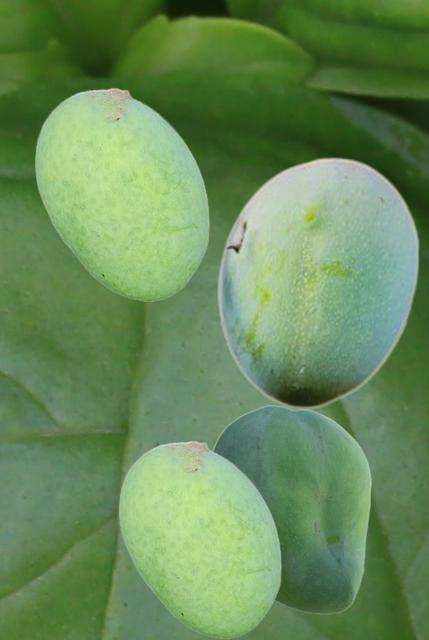green_mango: (216, 156, 419, 408), (35, 87, 208, 300), (211, 405, 370, 613), (119, 440, 280, 637)
